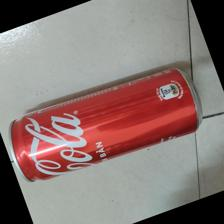Coca: (10, 65, 203, 186)
